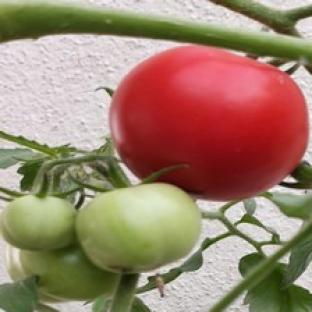Tomato: (109, 46, 309, 200), (77, 183, 200, 271), (7, 246, 119, 300), (0, 195, 76, 249)
